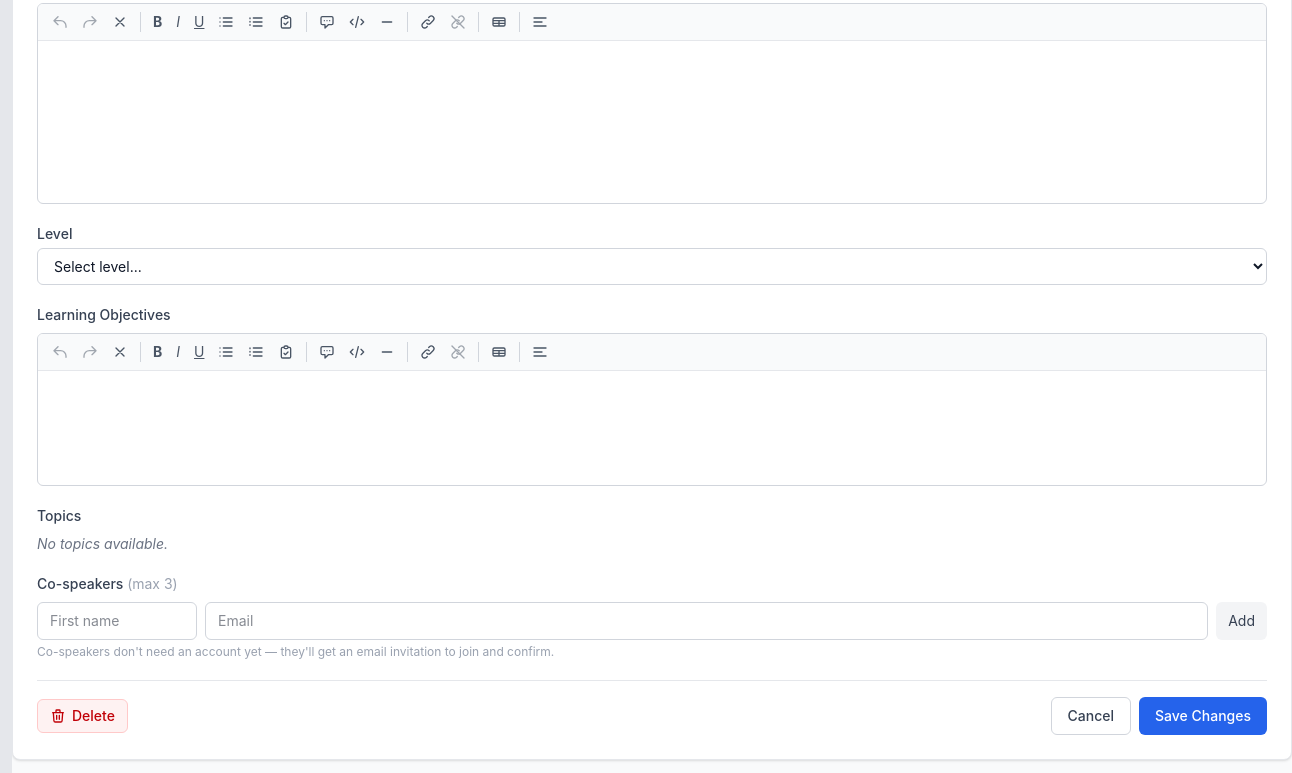
PaperDetailPage › unadded co-speaker guard › blocks Save Changes and shows error when first name typed but Add not pressed
The image size is (1292, 773).
(page scrolled)
Expected: the button "Save Changes" is shown, [1139,697,1267,735]
Step 1. Type "Alice" into the field with placeholder "First name" → {"x": 117, "y": 621}, box [37,602,197,640]
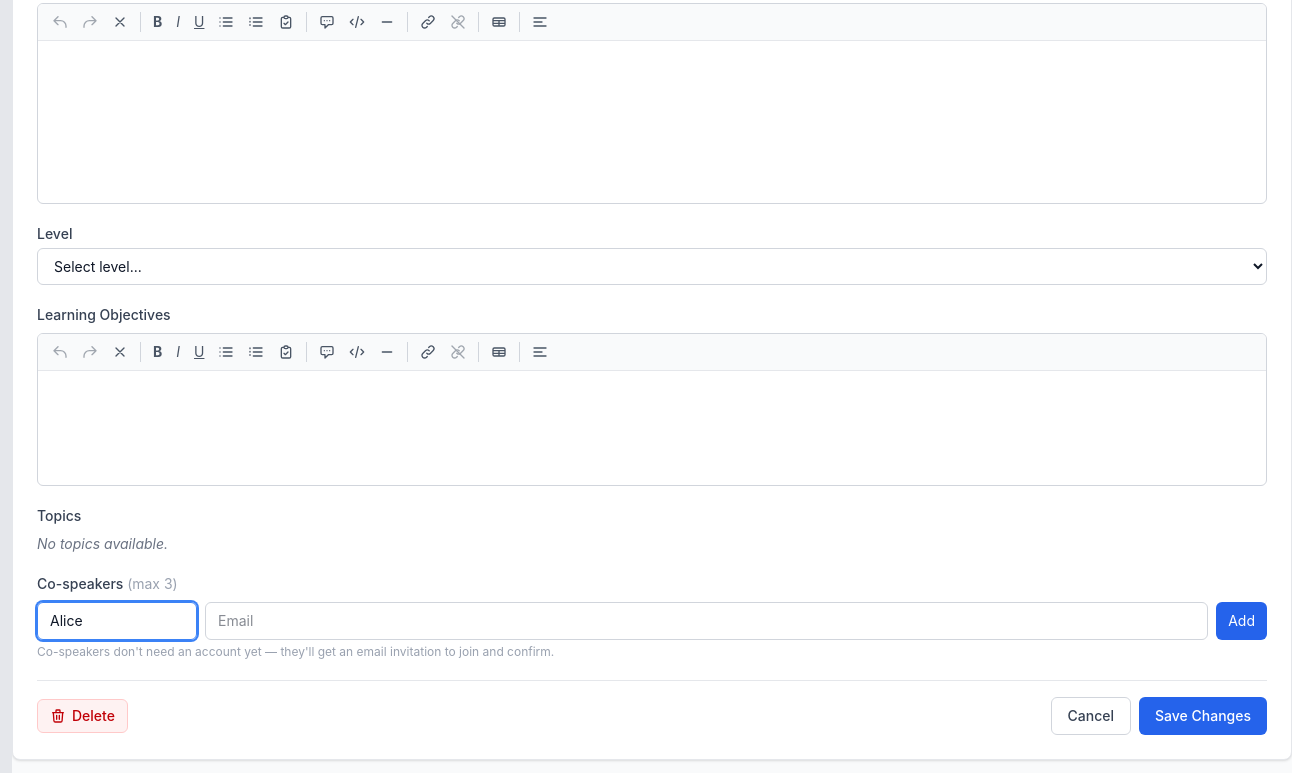
Step 2. Click the button "Save Changes" → {"x": 1203, "y": 716}, box [1139,697,1267,735]
(page scrolled)
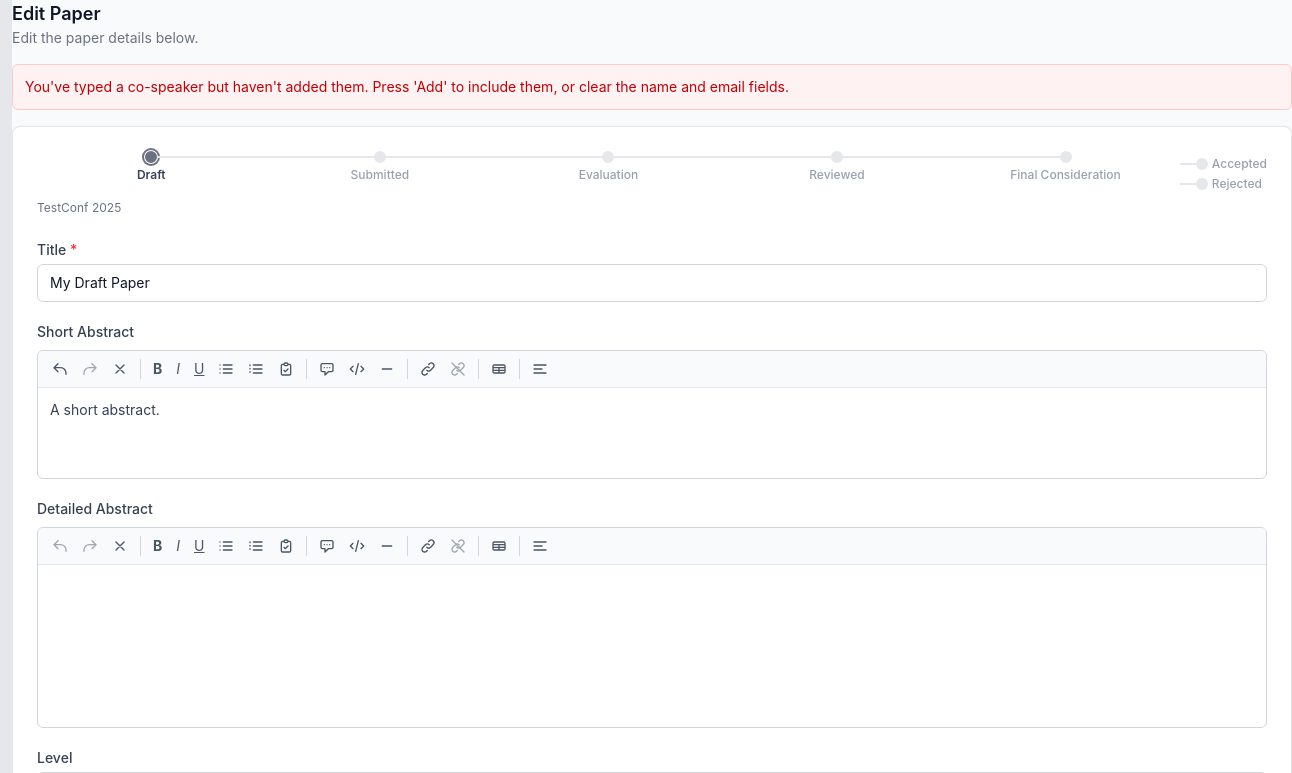
Expected: the text "You've typed a co-speaker but haven't added them" is shown, [25,78,789,95]
